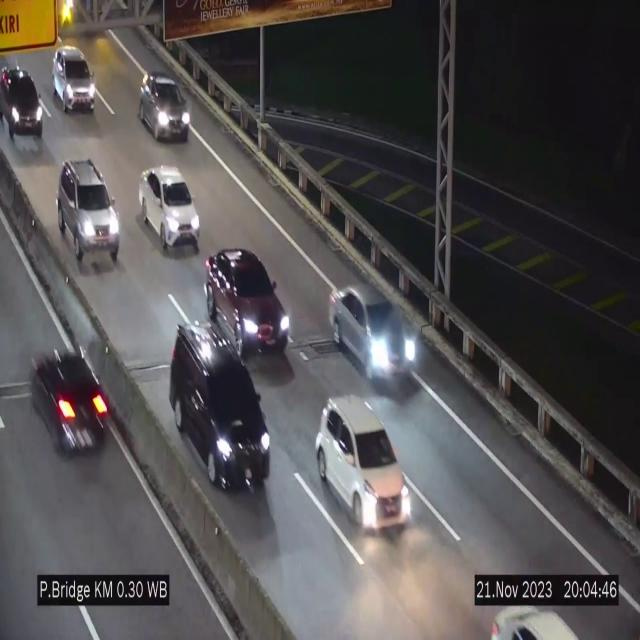Car: (169, 319, 271, 545), (21, 327, 121, 477), (316, 395, 411, 529), (329, 286, 423, 389), (204, 250, 290, 360), (58, 159, 120, 266), (138, 166, 200, 254), (138, 71, 190, 141), (0, 68, 47, 138), (52, 46, 96, 112)
